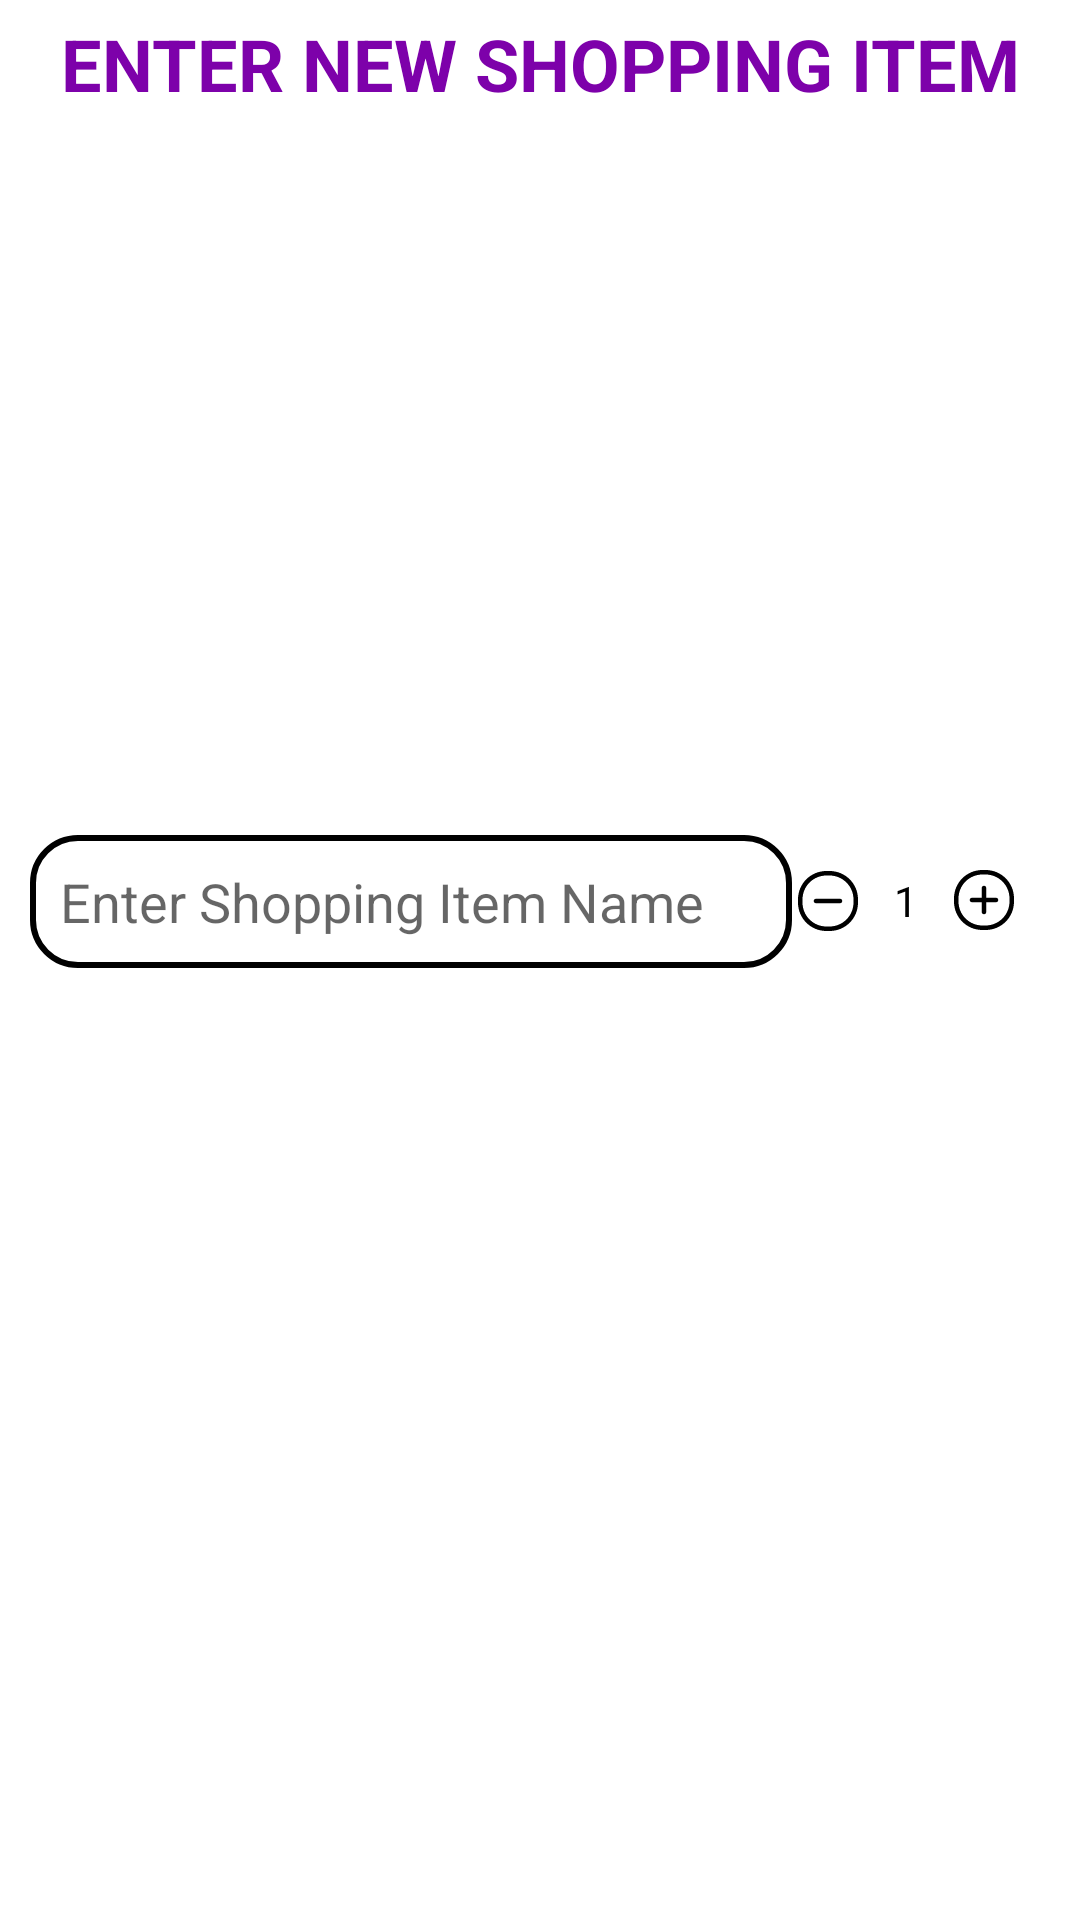

Icon bounding boxes for this 1080px×1920px phone screenshot, format (x1, y1, x2, y2):
minus circle: (798, 871, 858, 931)
plus circle: (954, 870, 1014, 930)
